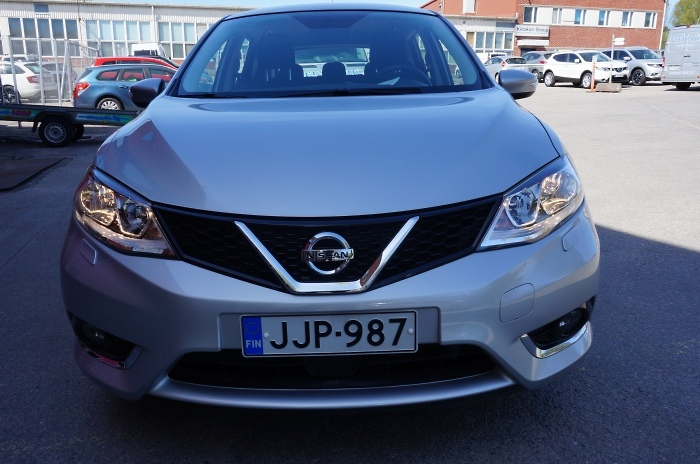license: (233, 309, 416, 358)
